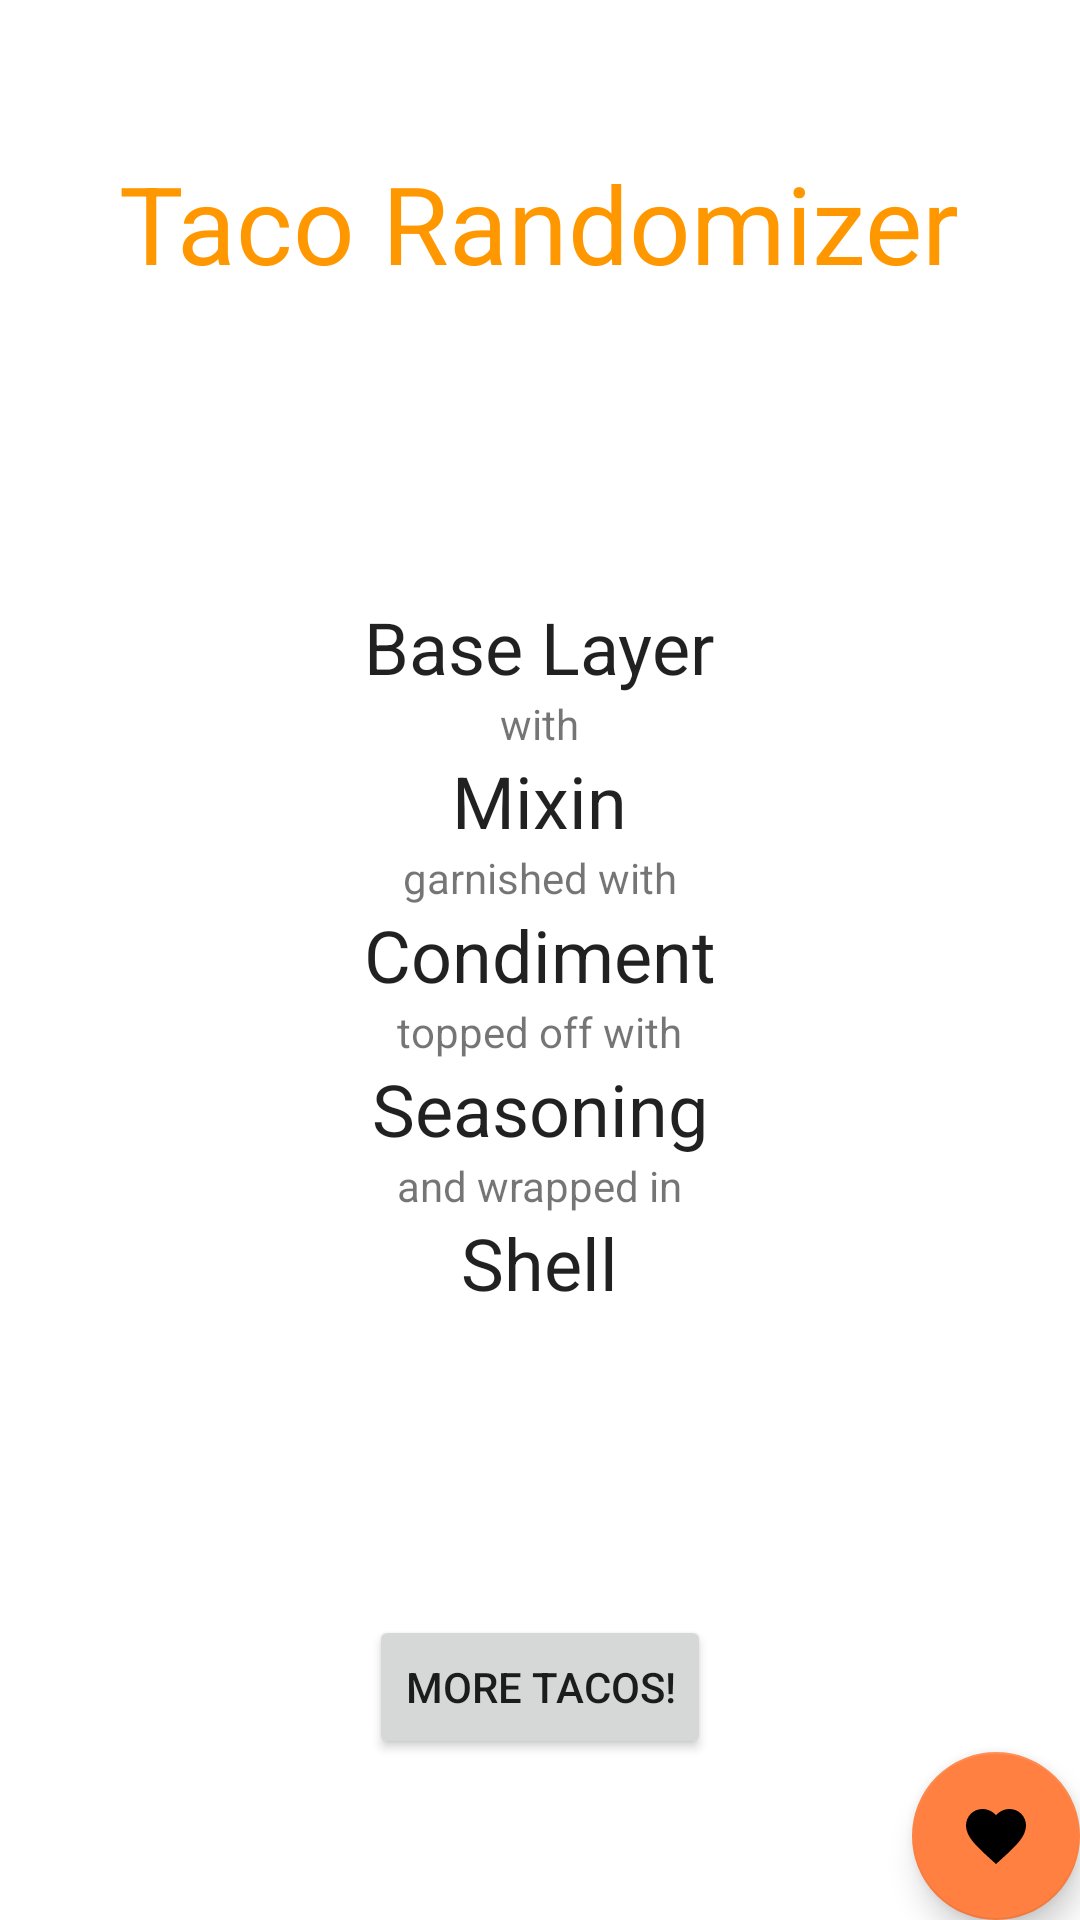

Screen size 1080 × 1920. Icon name, then its center in pixels as (x=x, y=y):
shape heart: (x=996, y=1836)
